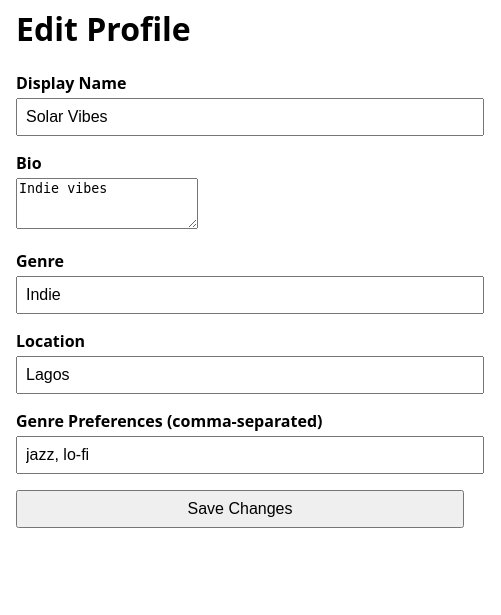
Test case: EditProfilePage › submits valid data and shows success message
This screenshot has width=501, height=615.
Replace the text in the text box labelled "Bio" with "Updated bio" at (107, 203), box [16,178,198,229]
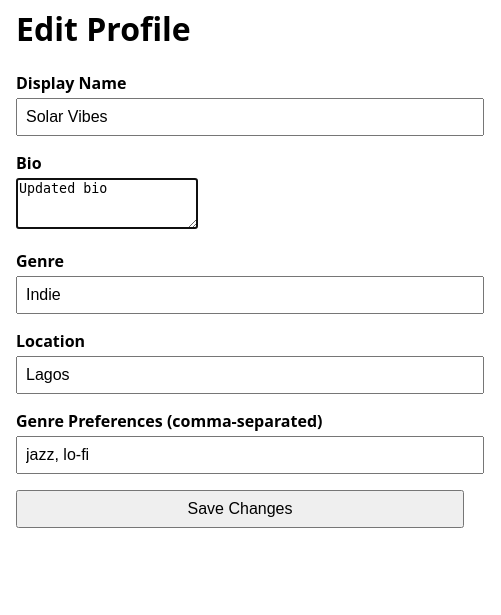
Click the button "Save Changes" at (240, 509), box [16,490,464,528]
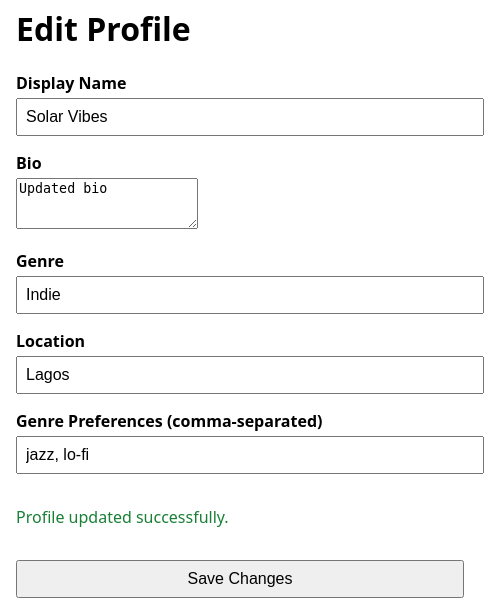
Now the text "Profile updated successfully." is shown, box [16,506,229,528]
